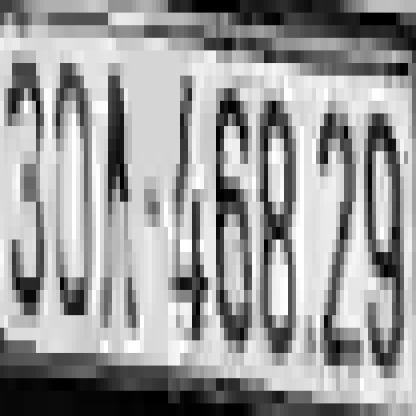0: (52, 63, 96, 315)
2: (316, 113, 356, 353)
3: (8, 63, 48, 315)
4: (168, 76, 208, 328)
6: (212, 101, 248, 340)
8: (256, 101, 292, 340)
9: (360, 114, 400, 366)
A: (100, 76, 136, 328)
